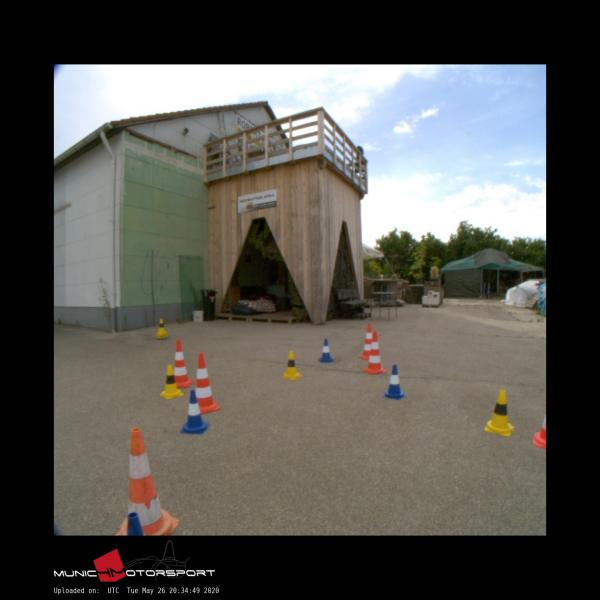blue_cone: (180, 390, 210, 434), (382, 364, 406, 398), (318, 338, 333, 362)
large_orange_cone: (114, 428, 180, 535), (192, 353, 220, 414), (170, 340, 193, 388), (364, 331, 386, 373), (359, 324, 376, 360)
yellow_cone: (484, 390, 514, 435), (159, 364, 184, 398), (282, 350, 301, 379), (156, 318, 166, 333)
